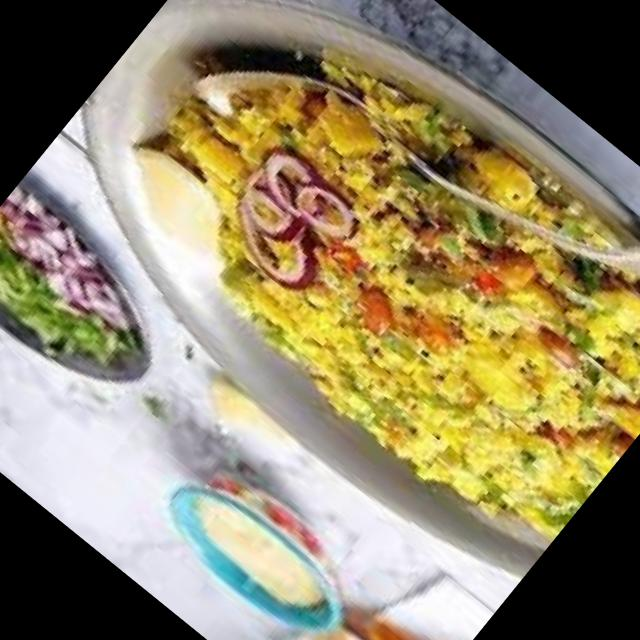poha: (89, 0, 640, 566)
